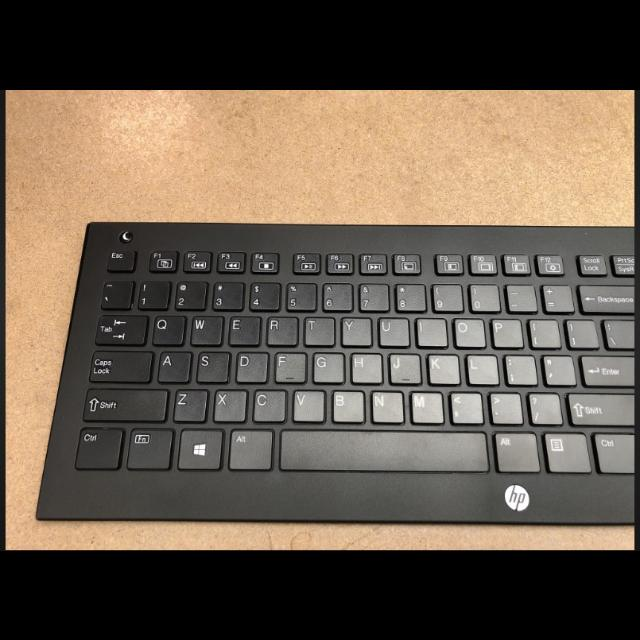Computer-Keyboard: (33, 221, 639, 528)
